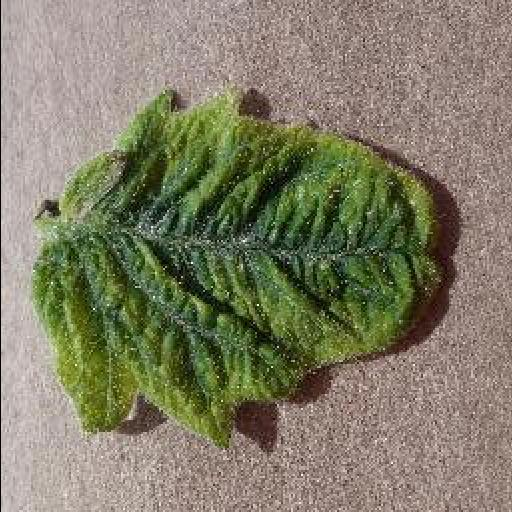disease_tomato: (26, 86, 446, 448)
